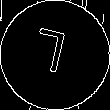L_S: (34, 27, 76, 83)
